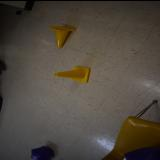cone: (48, 25, 76, 47), (54, 66, 91, 82)
cube: (123, 146, 160, 160), (31, 145, 54, 160)
